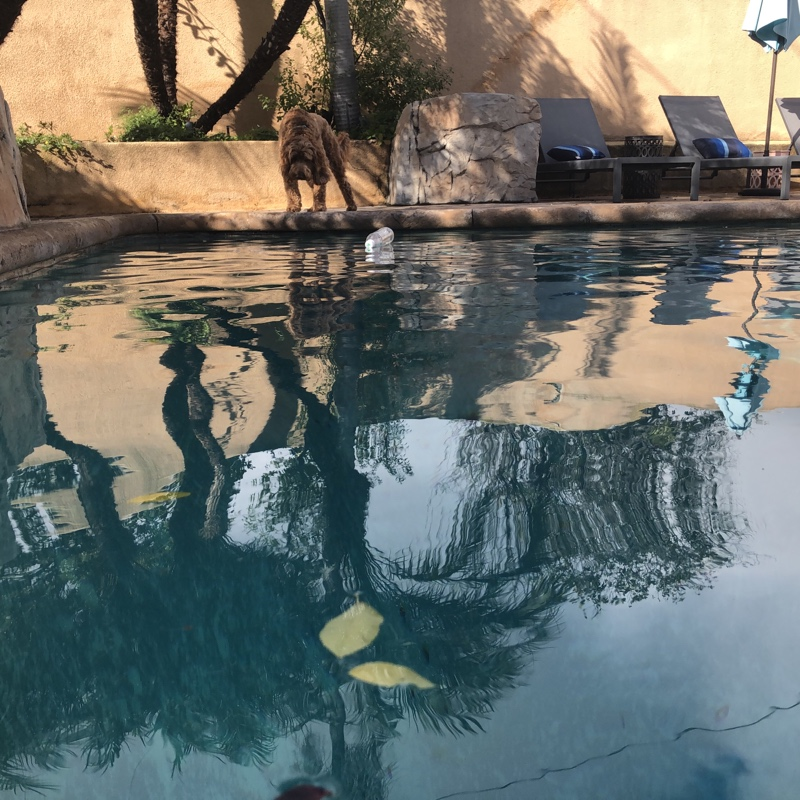Plastic Bottle: (363, 223, 397, 251)
